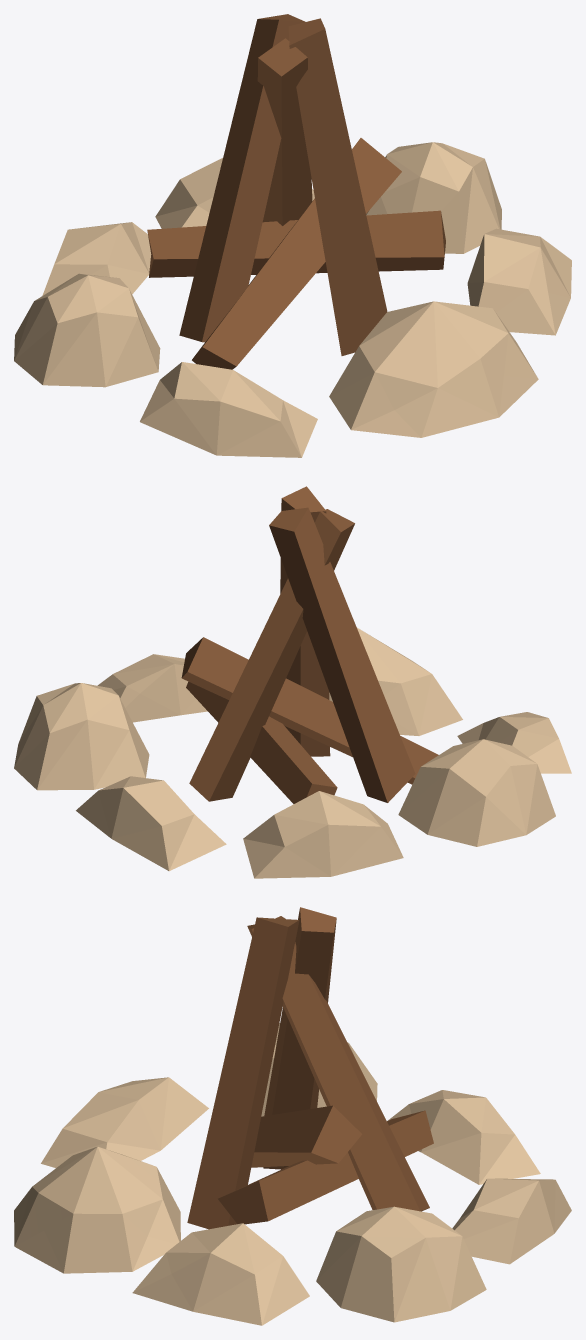
Rendered from fireplace-nofire.glb.
3 renders of one model, top to bottom at view 1: azimuth 30°, elevation 25°; view 2: azimuth 150°, elevation 25°; view 3: azimuth 270°, elevation 25°, orthographic. The views are drawn at different scales.
Parts seen in each view (by area): view 1: fireplace-nofire; view 2: fireplace-nofire; view 3: fireplace-nofire.
Part boxes in pixels (x1,y1,x2,y2): fireplace-nofire: (14,14,571,457); fireplace-nofire: (14,486,571,878); fireplace-nofire: (14,907,571,1325).
Bounding box in the file's own units: 1.62 × 0.925 × 1.51.
1 material, 1 textured.
